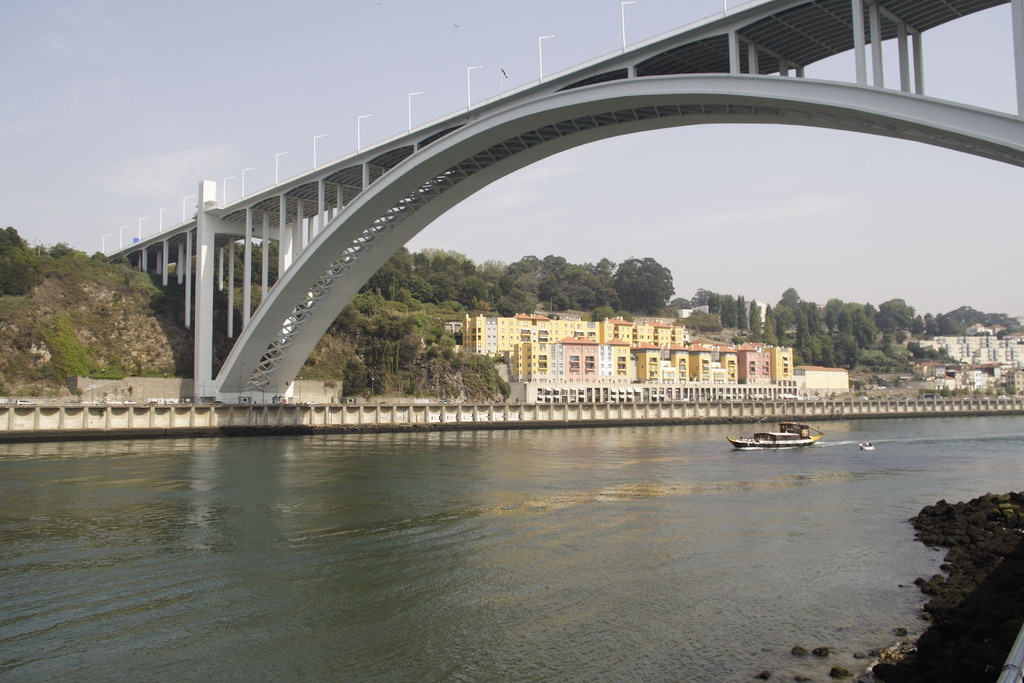arrabida: (100, 0, 1023, 406)
